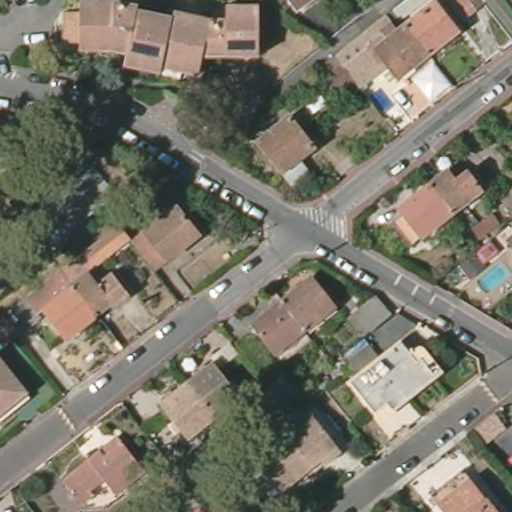pool: (471, 258, 512, 294)
